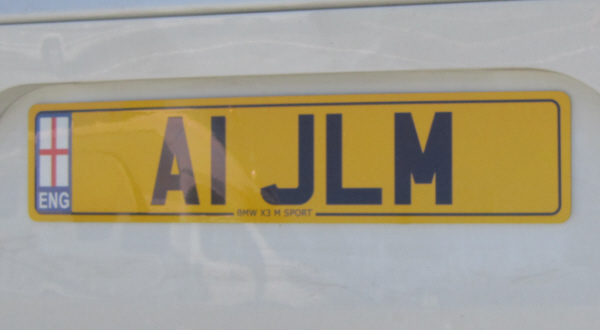license_plate: (29, 92, 572, 222)
